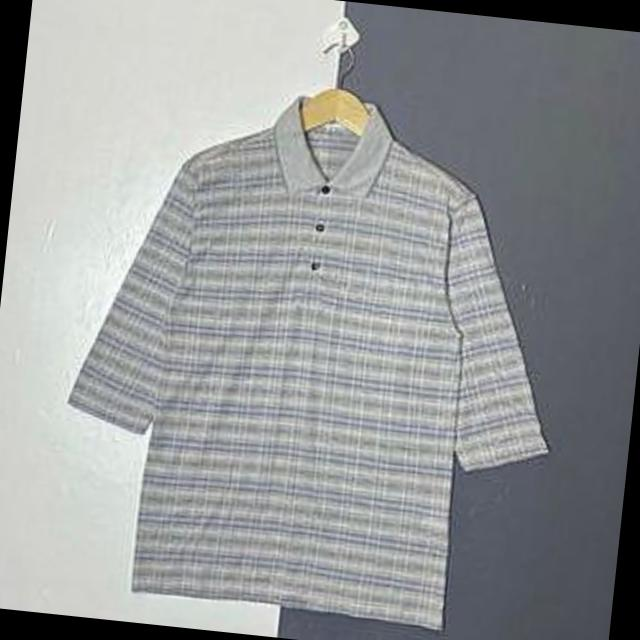T_SHIRT: (23, 55, 595, 640)
